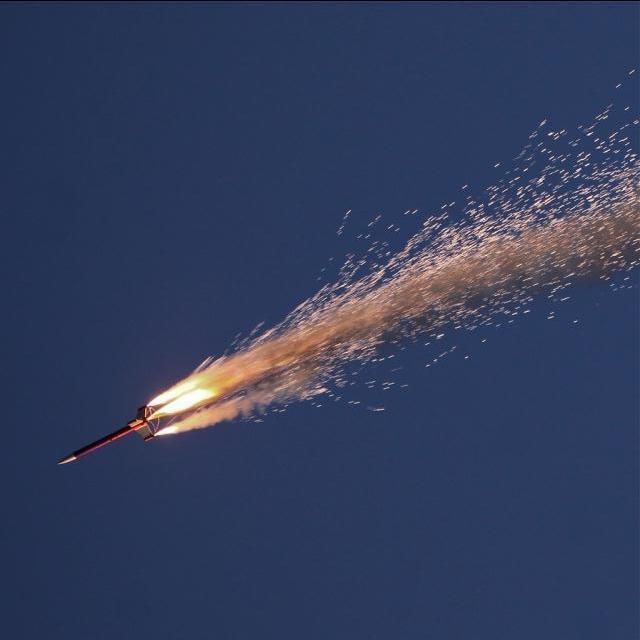missile: (58, 397, 160, 470)
